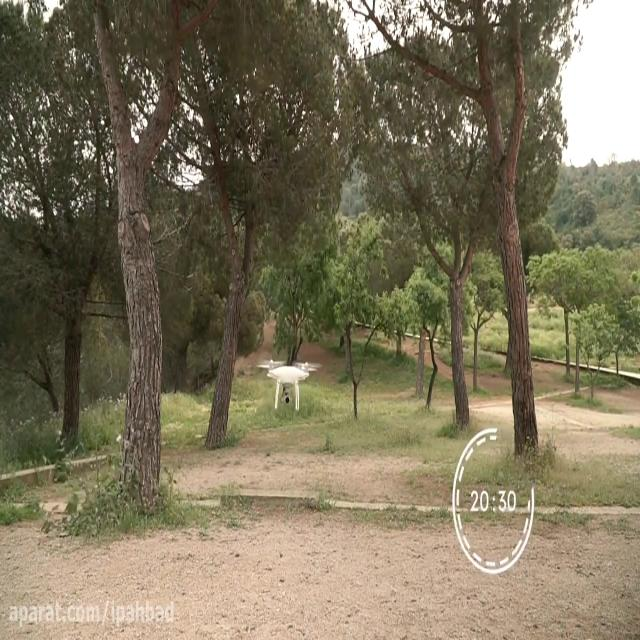drone: (255, 354, 325, 416)
